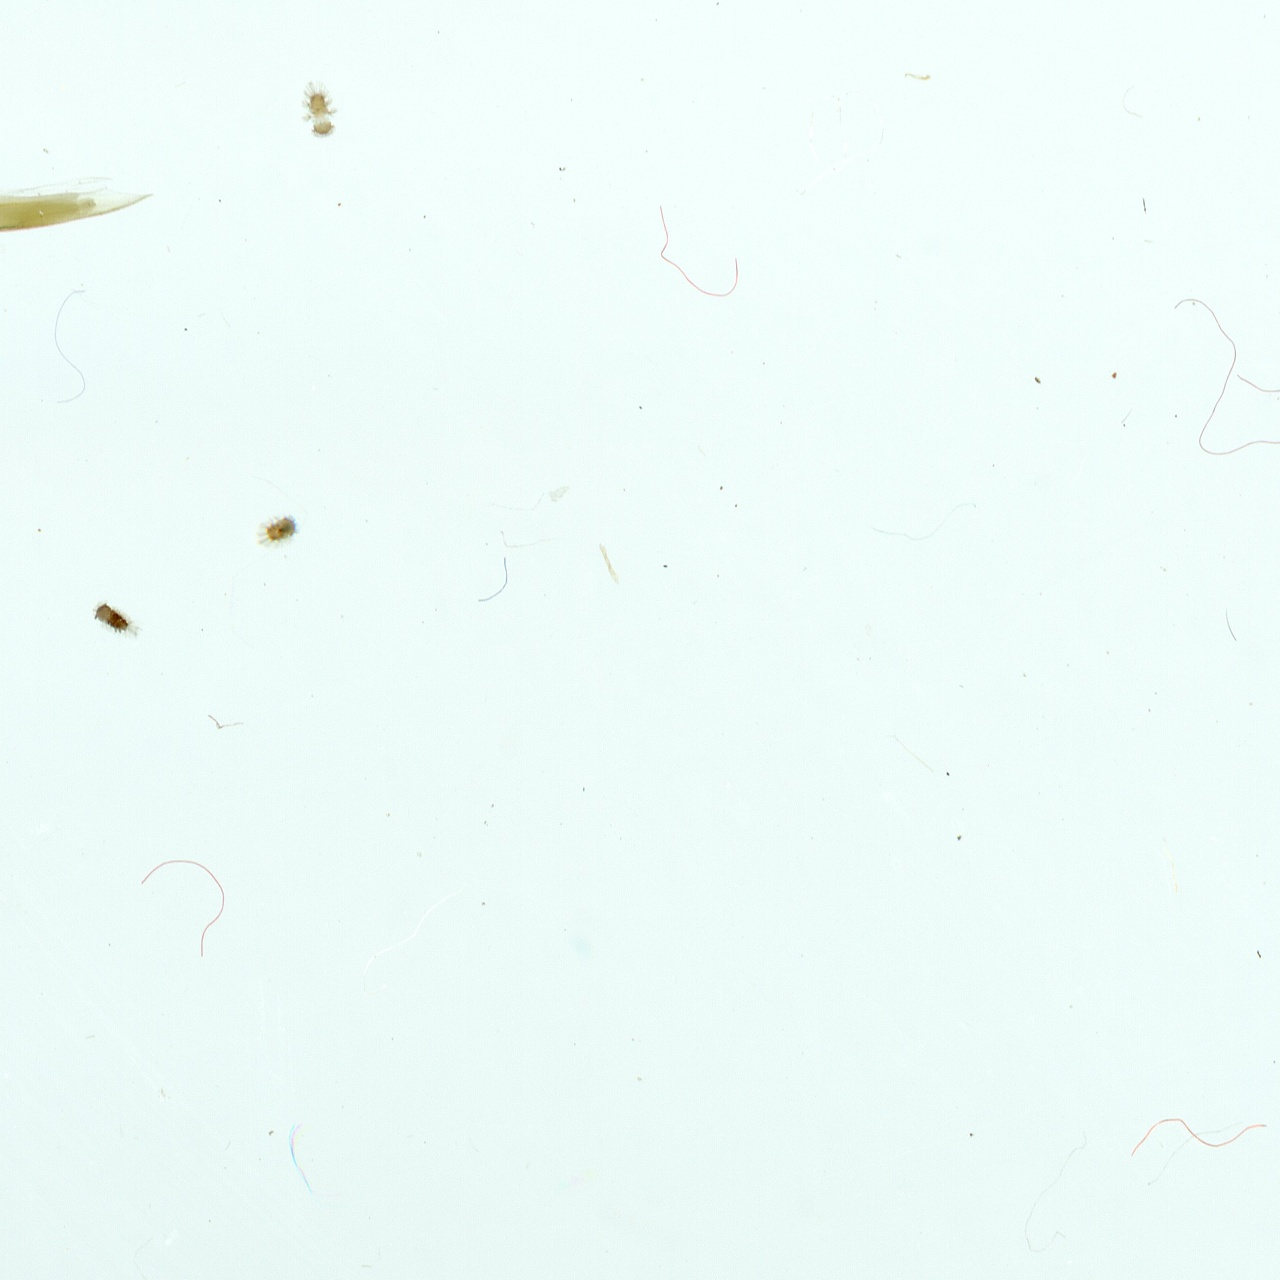arthropod: (293, 73, 336, 139), (86, 594, 141, 642), (245, 503, 298, 551)
